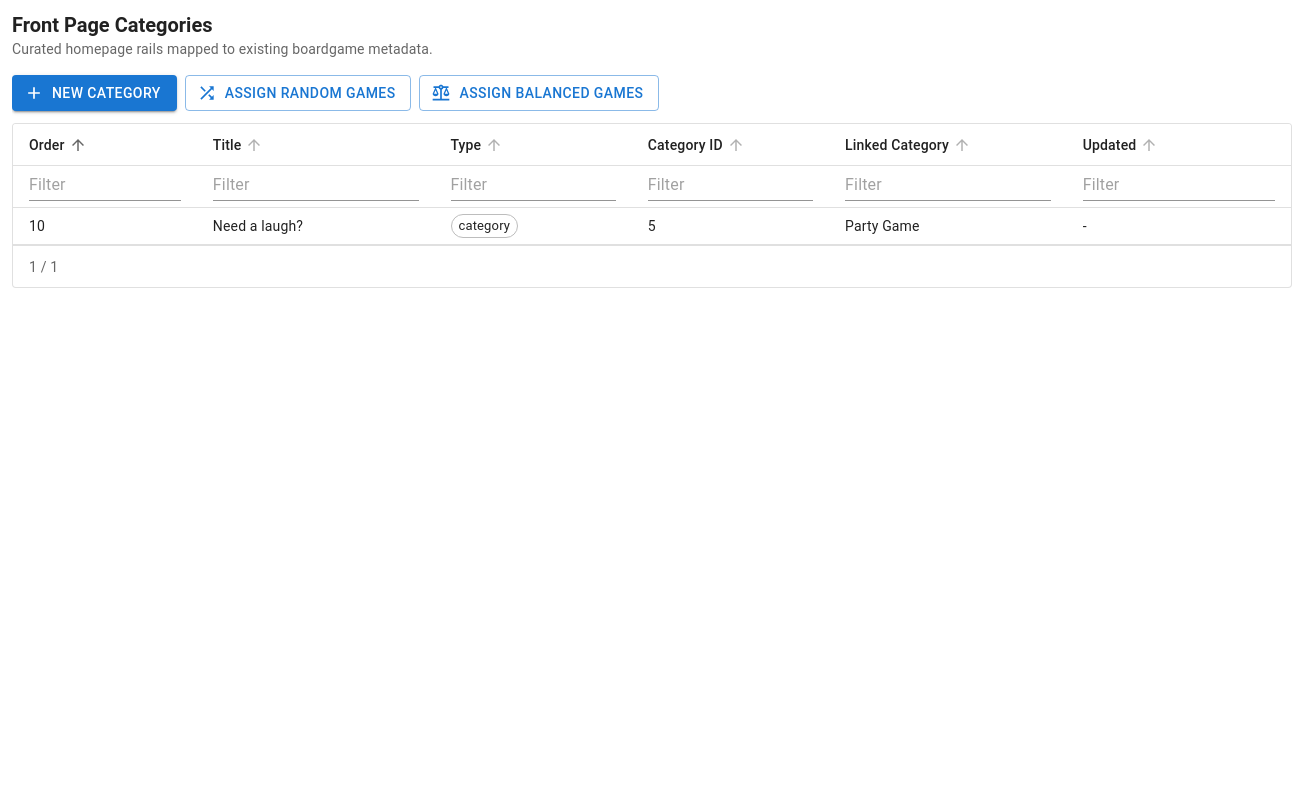
FrontPageCategoriesPage › opens an edit form on double click and saves changes
The width and height of the screenshot is (1292, 812).
Double-click the text "Need a laugh?" at (316,227), box x1=197 y1=208 x2=434 y2=245
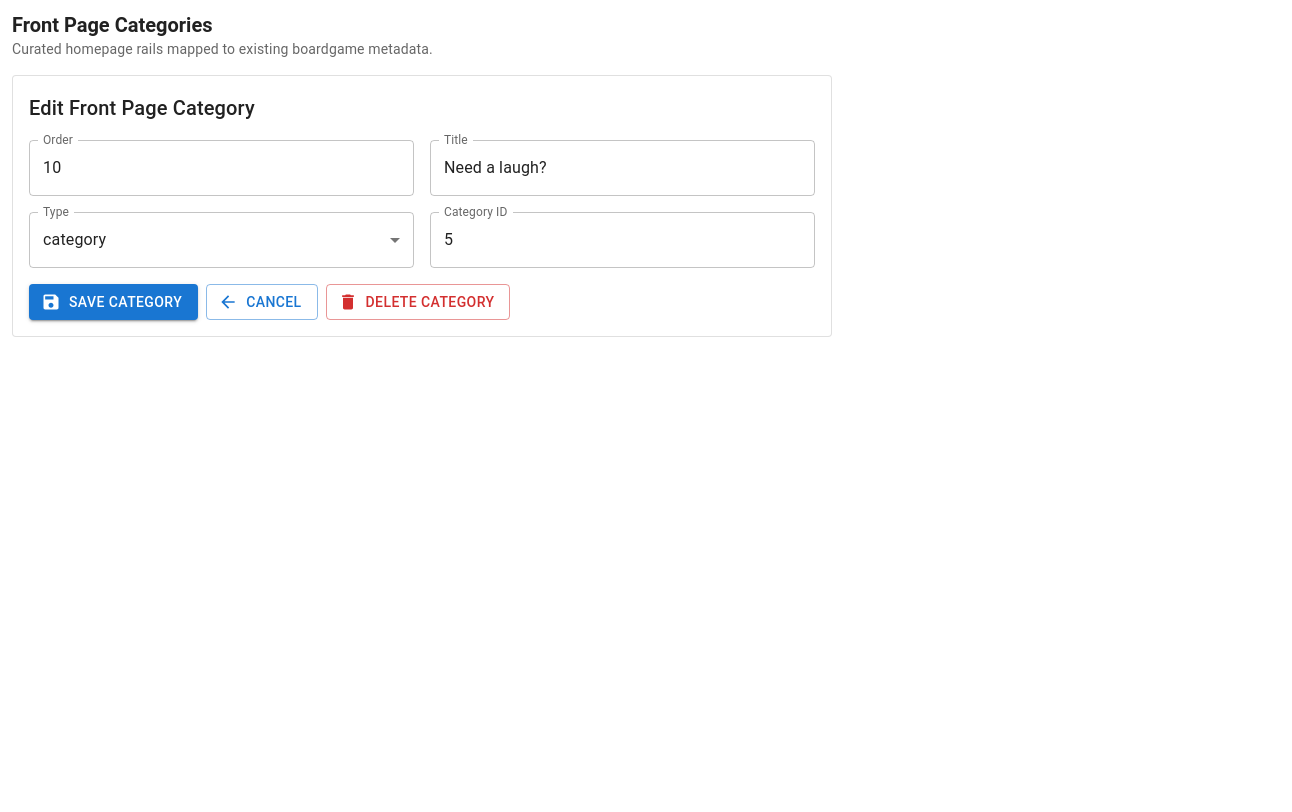
Expected: the heading "Edit Front Page Category" is shown, x1=29 y1=96 x2=255 y2=120
Replace the text in the number field labelled "Order" with "20" at (222,168), box x1=29 y1=140 x2=414 y2=196
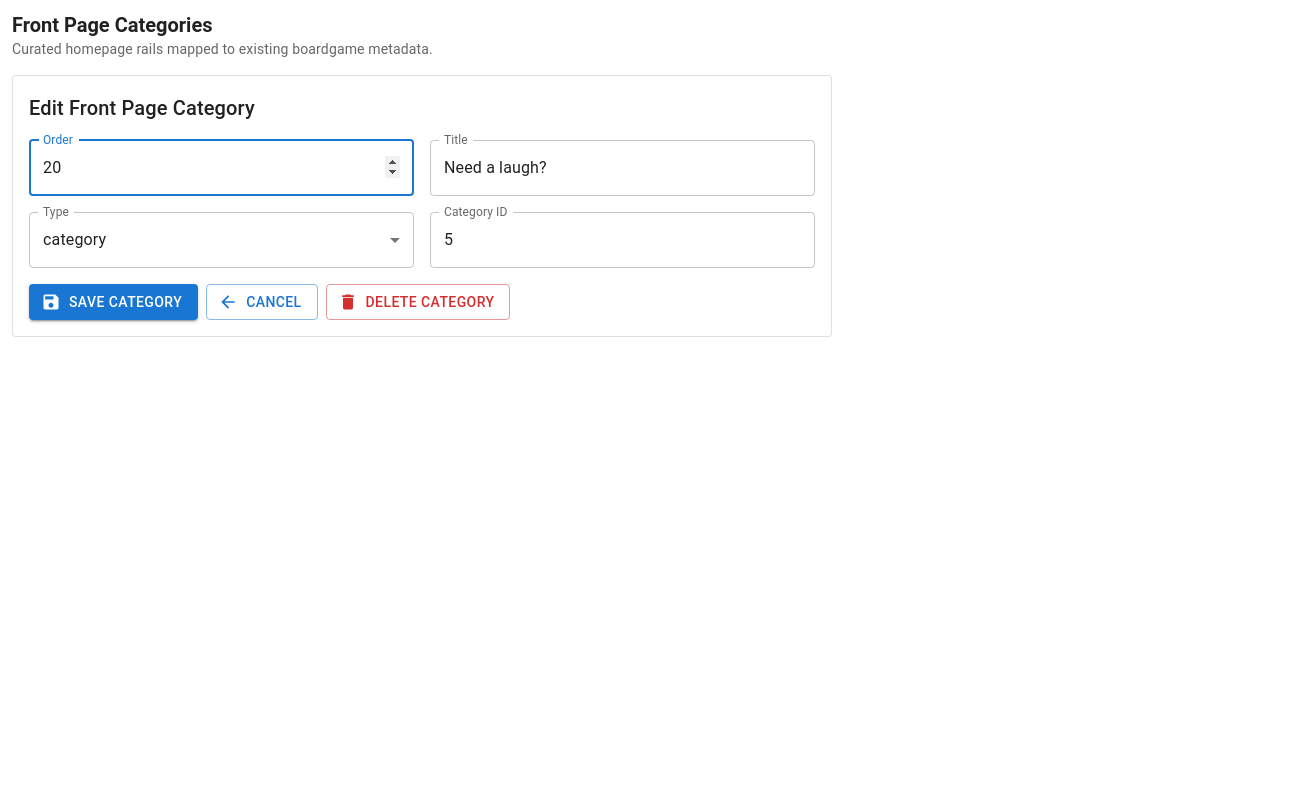
Replace the text in the field labelled "Title" with "Smart choices" at (622,168), box x1=430 y1=140 x2=815 y2=196
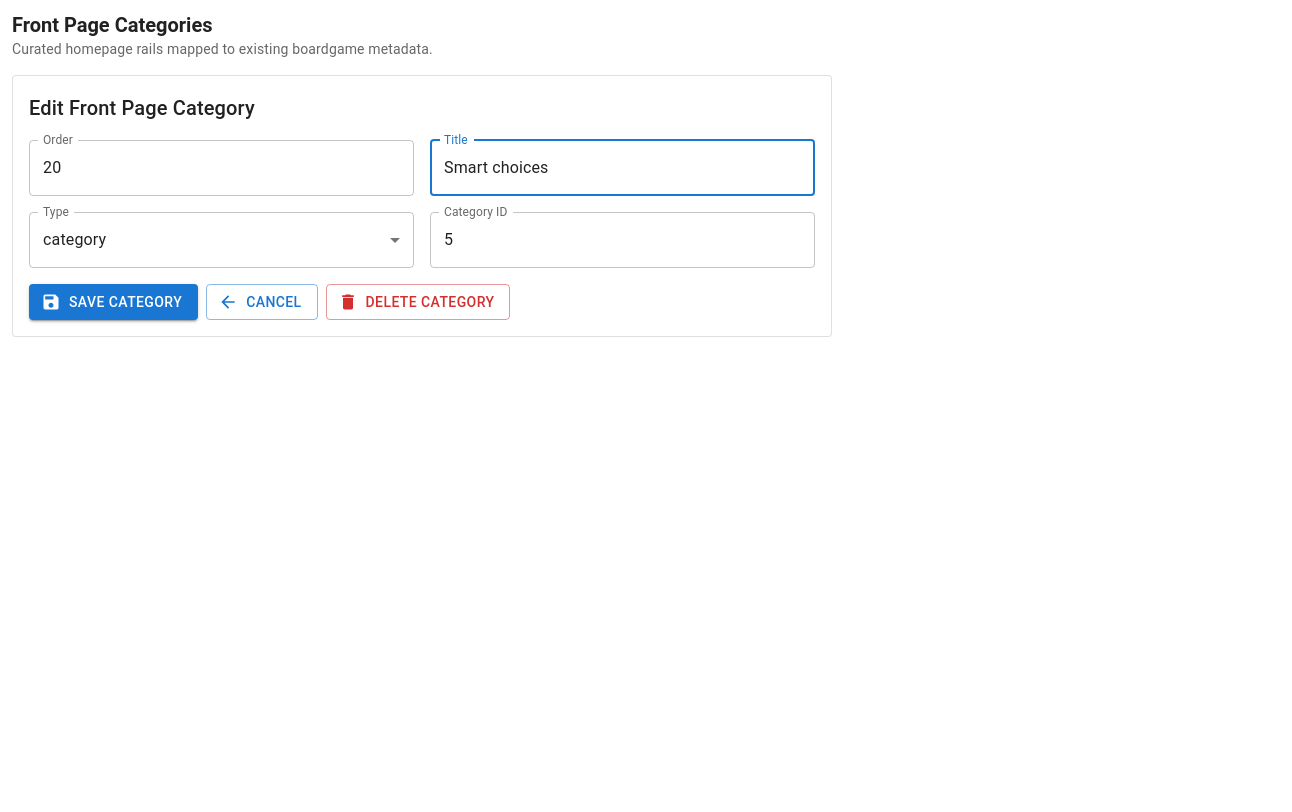
Replace the text in the number field labelled "Category ID" with "8" at (622,240), box x1=430 y1=212 x2=815 y2=268
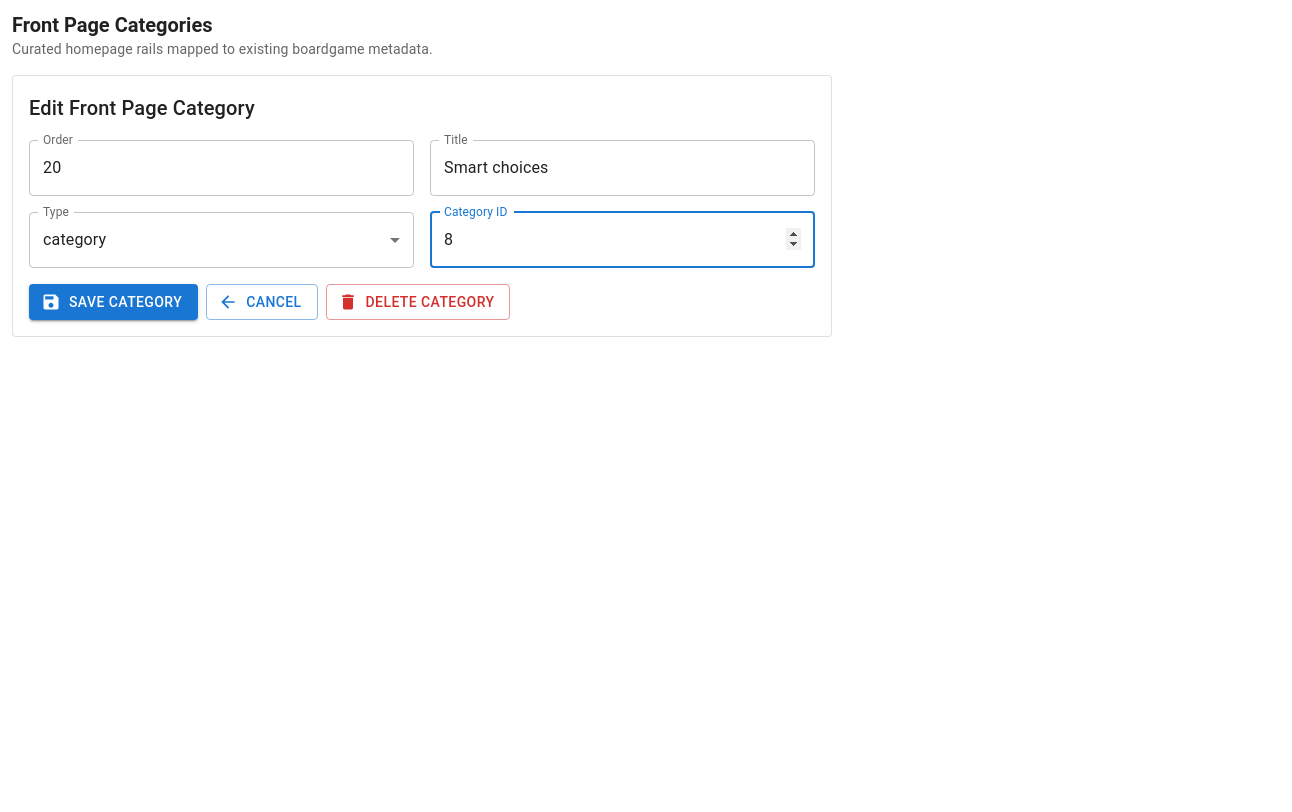
Select "mechanic" in the dropdown labelled "Type" at (222,240), box x1=29 y1=212 x2=414 y2=268
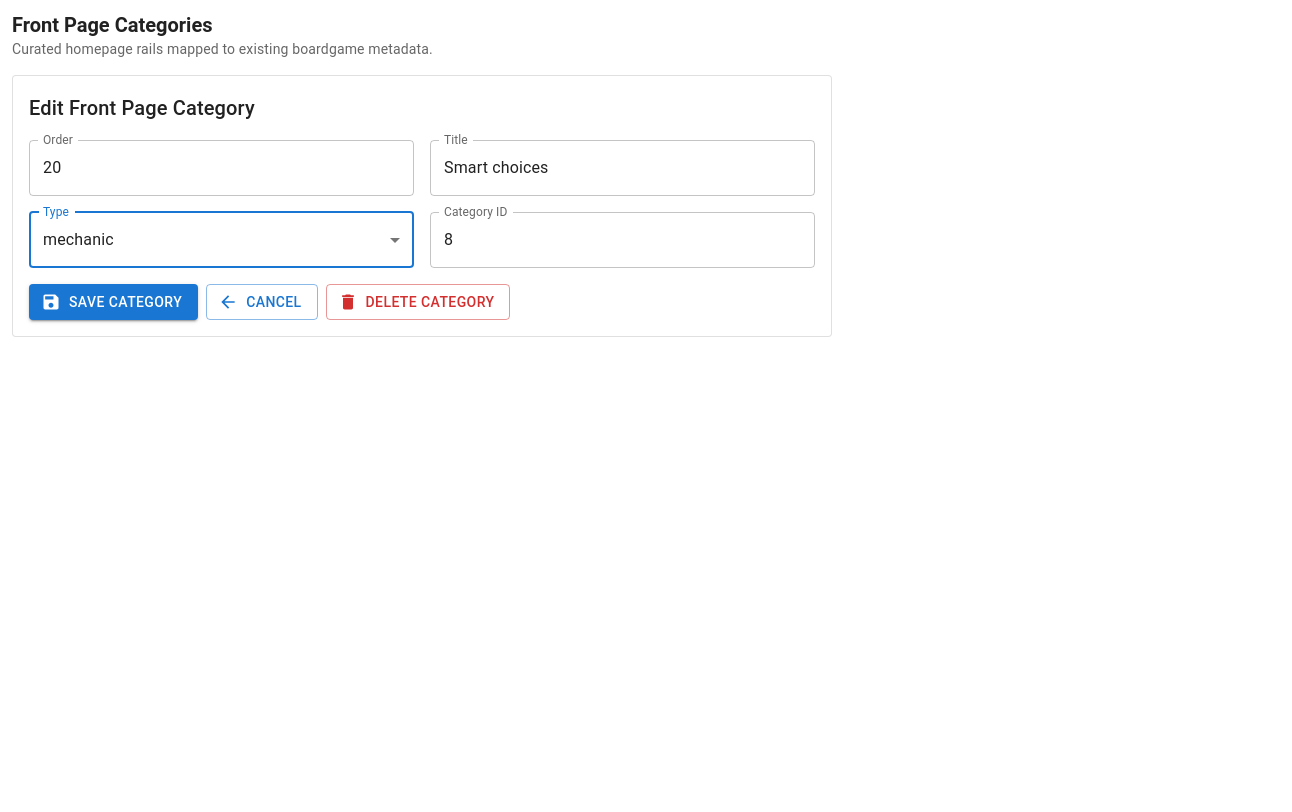
Click the button "Save Category" at (114,302), box x1=29 y1=284 x2=198 y2=320
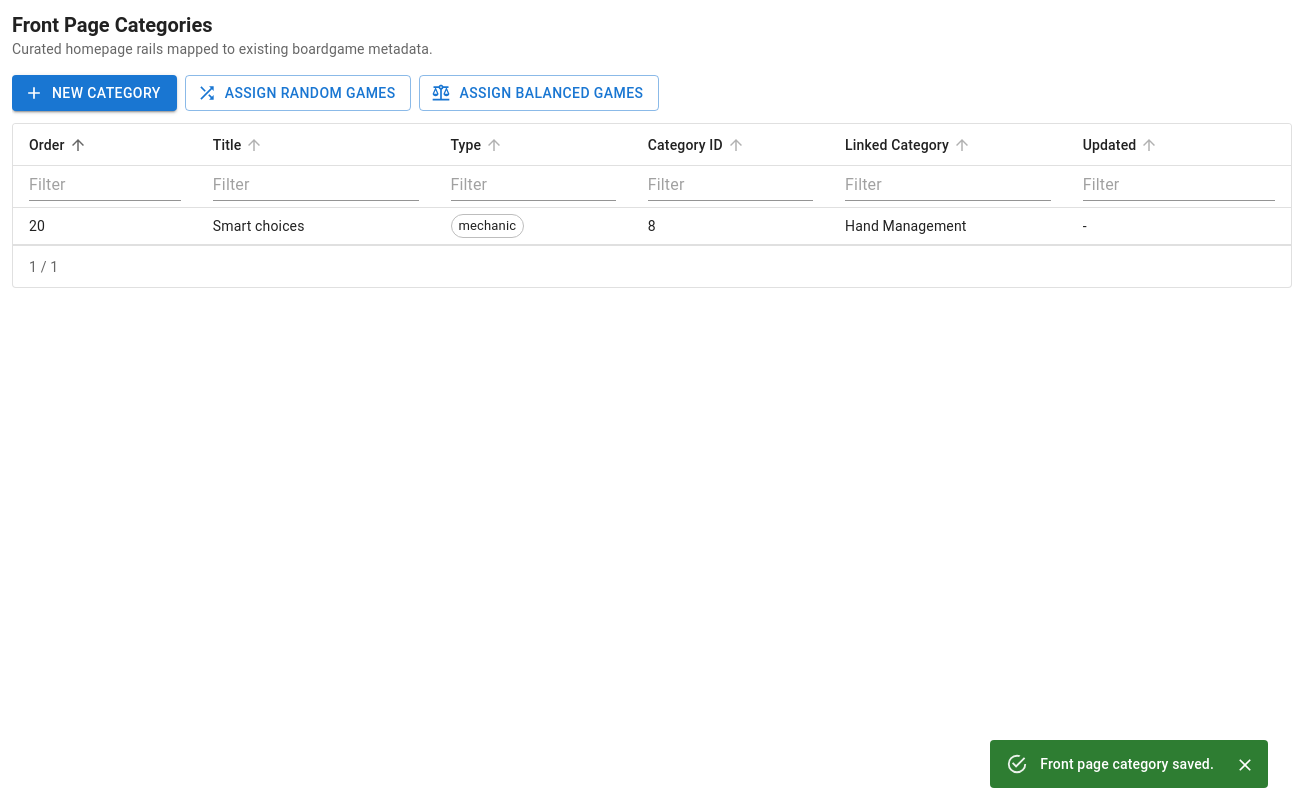
Expected: the text "Smart choices" is shown, x1=197 y1=208 x2=434 y2=245
